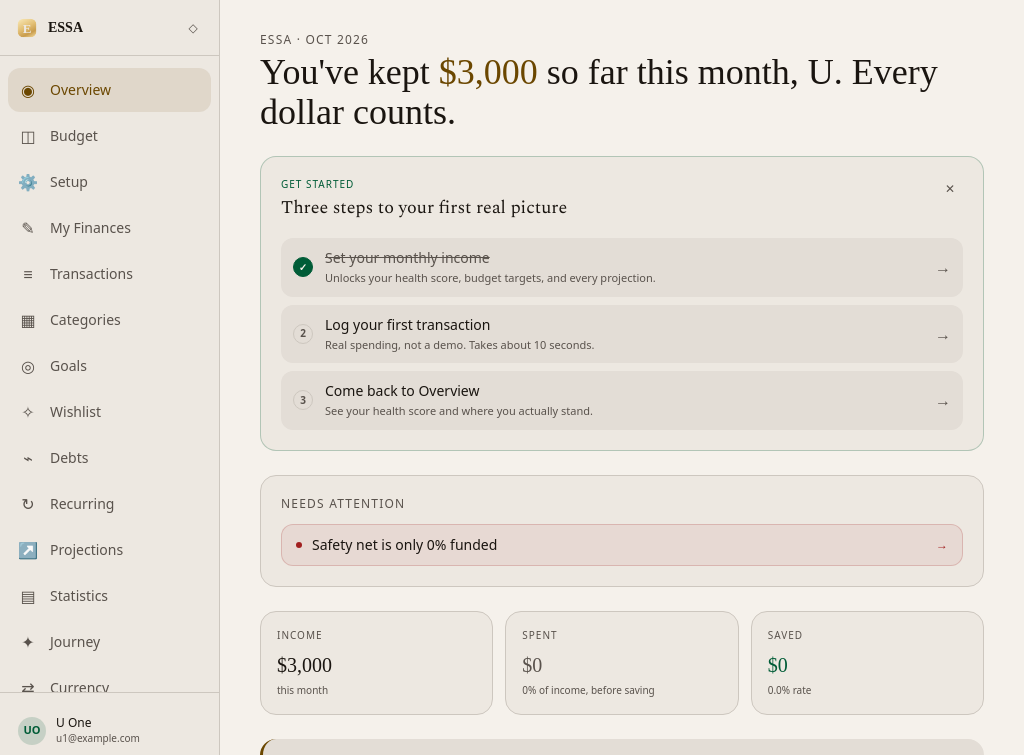
Test: says why, and what to do, without "will try again" or a Try again button
Expected: the button "⚙ Setup" is shown, [8,160,211,204]
Click the button "✧ Wishlist" at (110, 412), box [8,390,211,434]
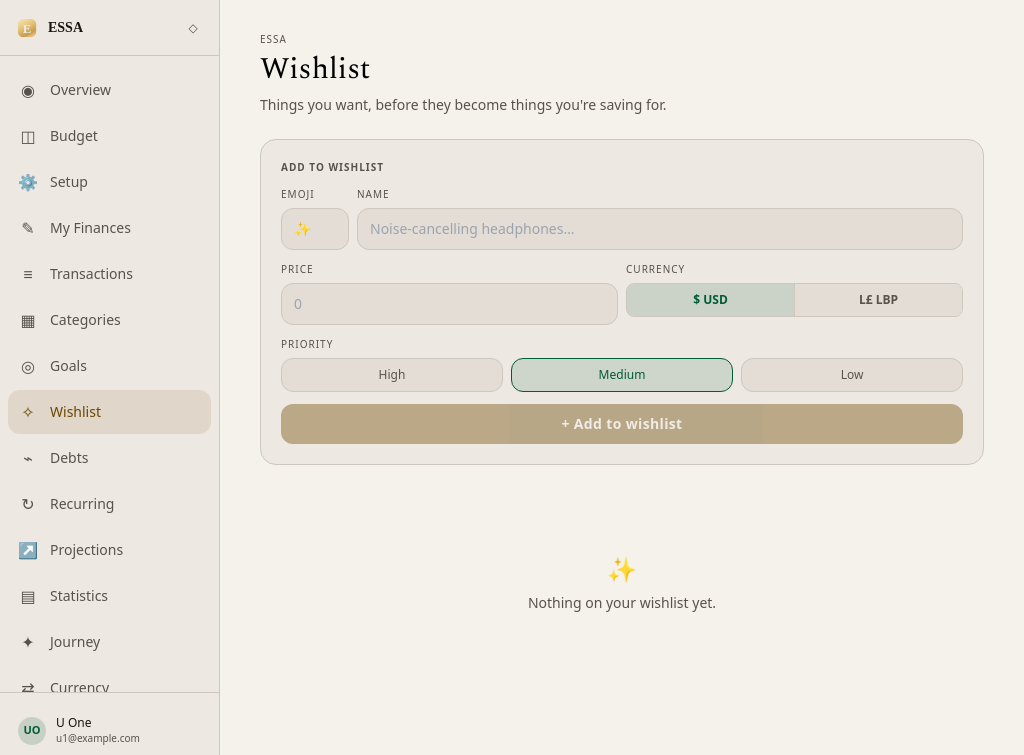
Type "Amber stool" into the field with id "wish-name" at (660, 229), box [357,208,963,250]
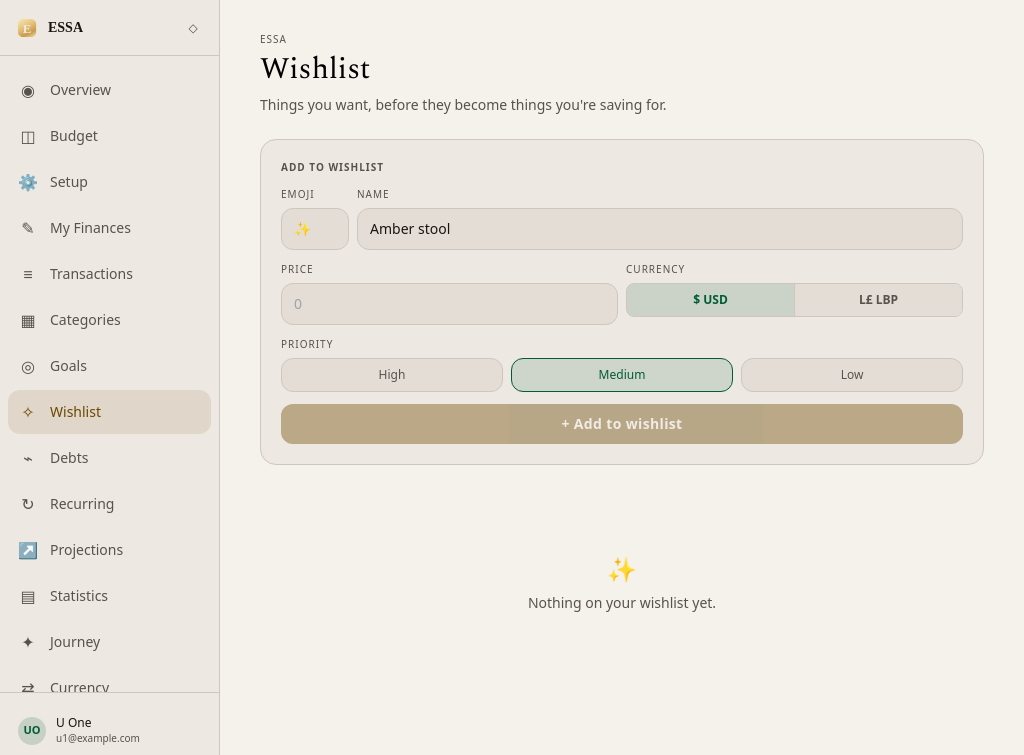
Type "22.15" into the field with id "wish-price" at (450, 304), box [281,283,618,325]
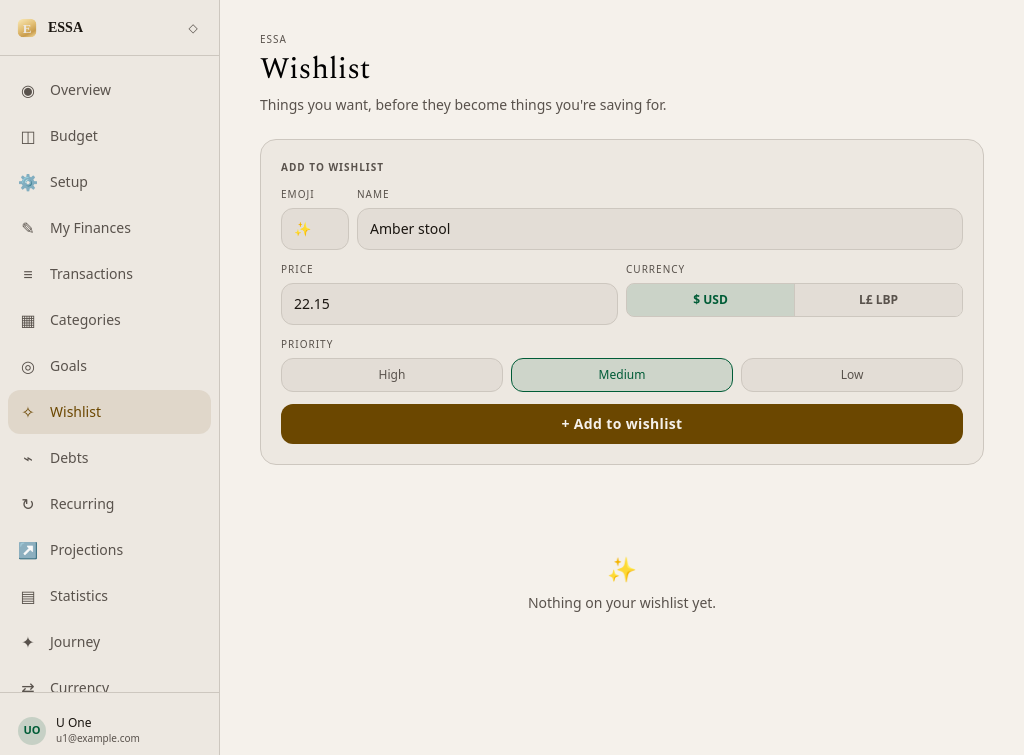
Click the button "+ Add to wishlist" at (622, 424), box [281,404,963,444]
Wait 3000 ms
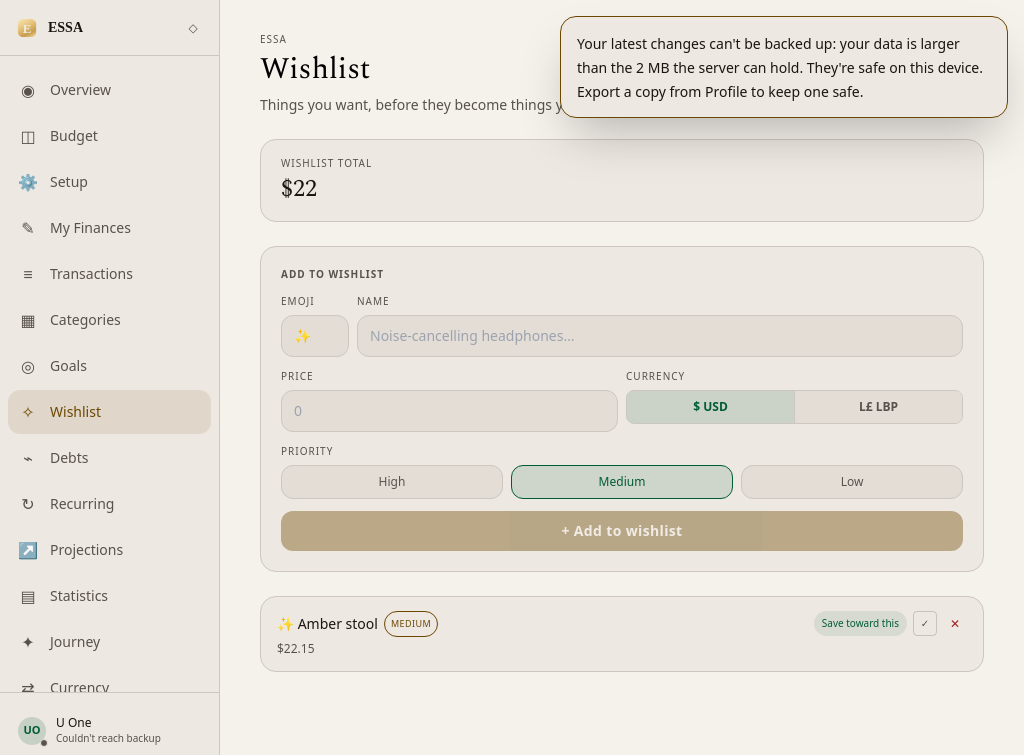
Now the text "Your latest changes can't be backed up: your data is larger than the 2 MB the server can hold. They're safe on this devi" is shown, box [577,34,983,101]
